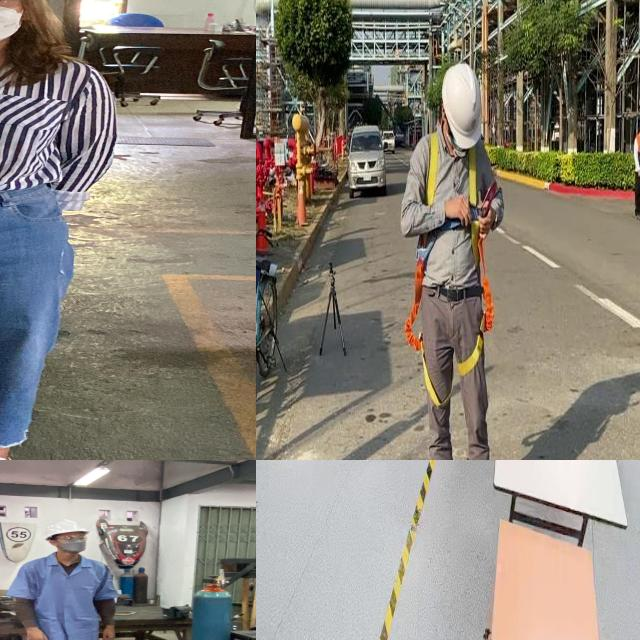Harness: (404, 258, 451, 408), (458, 235, 495, 378)
face_mask: (56, 532, 90, 553)
glasses: (49, 533, 89, 543)
hand_noglove: (20, 624, 55, 640), (98, 625, 122, 640)
head_helmet: (42, 518, 88, 536)
head_nohelmet: (0, 0, 128, 460)
person: (6, 517, 135, 640)
